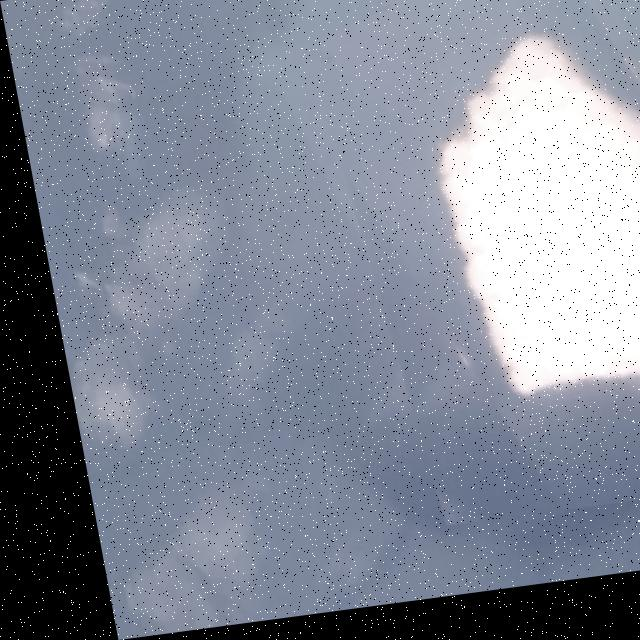litter: (285, 0, 640, 540)
